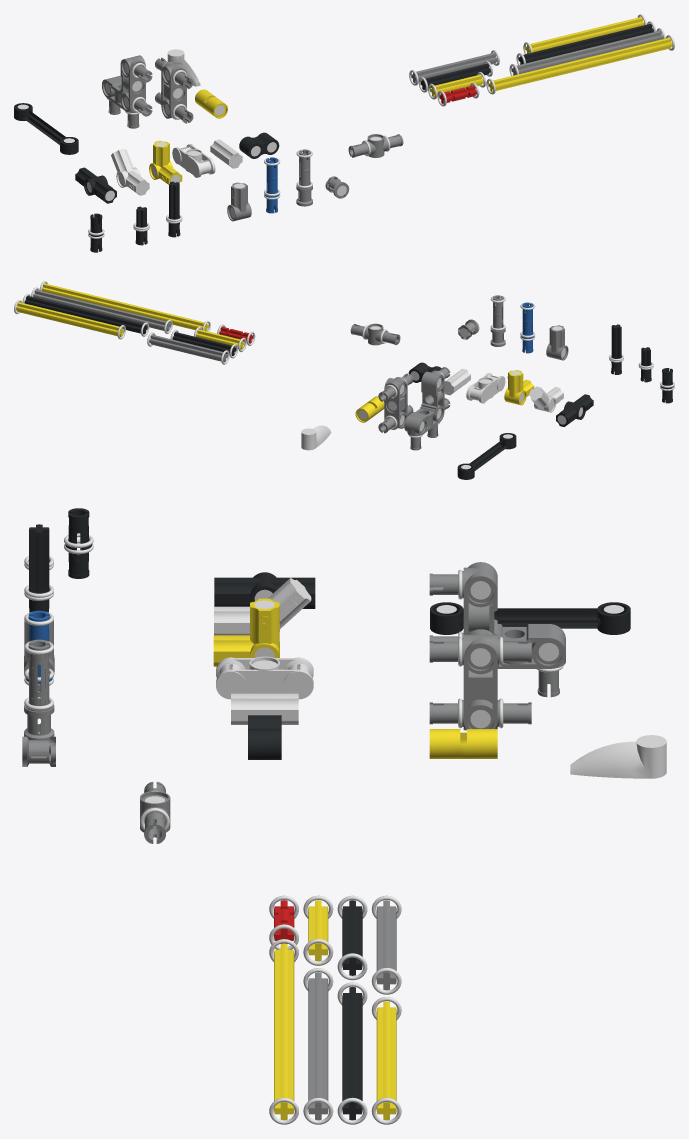
File: SmallStuff.fbx
The picture shows the model from 3 angles, top to bottom: view 1: azimuth 30°, elevation 25°; view 2: azimuth 150°, elevation 25°; view 3: azimuth 270°, elevation 25°; orthographic projection. The views are drawn at different scales.
Parts seen in each view (by area): view 1: Axle 11m, Angular Beam 90 deg, Beam 3m, Axle 9m, Axle 8m, Axle 7m, Track Rod 6m, Angle Element 135 deg, Double Cross Block, Axle 5m, Beam 1m With Peg, Angle Element 90 deg (+14 smaller); view 2: Angular Beam 90 deg, Axle 11m, Beam 3m, Axle 9m, Axle 7m, Axle 8m, Track Rod 6m, Axle 5m, Double Cross Block, Angle Element 90 deg, Beam 1m With Peg, Angle Element 180 deg (+12 smaller); view 3: Beam 3m, Angular Beam 90 deg, Track Rod 6m, Axle 11m, Bionicle Eye, Double Cross Block, Axle 9m, Axle 8m, Angle Element 90 deg, Axle 7m, Angle Element 135 deg, Cross Hole Peg 2m (+11 smaller).
Part boxes in pixels (<box>): Axle 11m: <box>488,37,672,91</box>; Angular Beam 90 deg: <box>102,55,152,128</box>; Beam 3m: <box>155,57,193,123</box>; Axle 9m: <box>511,30,663,75</box>; Axle 8m: <box>518,24,653,64</box>; Axle 7m: <box>525,17,644,53</box>; Track Rod 6m: <box>14,103,78,154</box>; Angle Element 135 deg: <box>111,148,149,195</box>; Double Cross Block: <box>172,144,215,177</box>; Axle 5m: <box>411,52,497,82</box>; Beam 1m With Peg: <box>348,134,403,157</box>; Angle Element 90 deg: <box>149,140,182,184</box>; Angular Beam 90 deg: <box>404,367,450,450</box>; Axle 11m: <box>41,283,208,331</box>; Beam 3m: <box>378,373,413,433</box>; Axle 9m: <box>33,289,170,331</box>; Axle 7m: <box>16,302,124,336</box>; Axle 8m: <box>24,296,147,334</box>; Track Rod 6m: <box>457,433,516,479</box>; Axle 5m: <box>149,334,227,362</box>; Double Cross Block: <box>466,373,505,403</box>; Angle Element 90 deg: <box>504,370,534,405</box>; Beam 1m With Peg: <box>350,323,400,345</box>; Angle Element 180 deg: <box>556,394,593,426</box>; Beam 3m: <box>429,629,531,730</box>; Angular Beam 90 deg: <box>429,562,565,697</box>; Track Rod 6m: <box>430,602,630,634</box>; Axle 11m: <box>274,943,294,1120</box>; Bionicle Eye: <box>570,735,666,778</box>; Double Cross Block: <box>216,656,313,699</box>; Axle 9m: <box>308,972,328,1120</box>; Axle 8m: <box>342,987,362,1120</box>; Angle Element 90 deg: <box>213,598,279,666</box>; Axle 7m: <box>376,1001,396,1120</box>; Angle Element 135 deg: <box>214,577,311,635</box>; Cross Hole Peg 2m: <box>24,639,54,739</box>.
Size of the model in its own units: 3133 by 351 by 1508.
